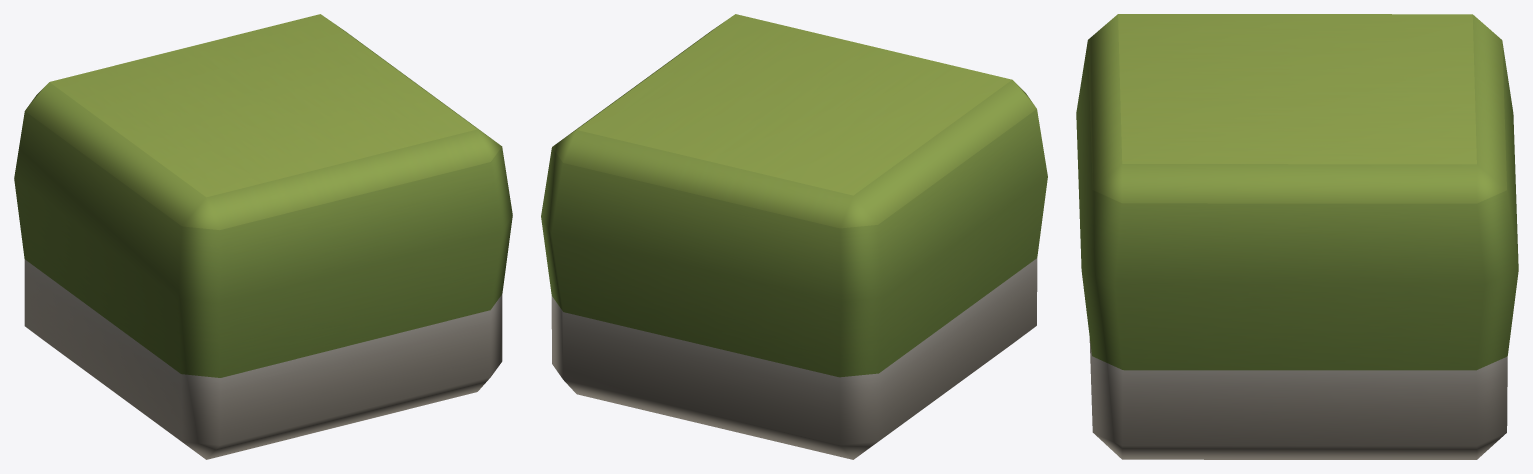
File: hedge_rooftop_1x1.fbx
3 views of the same model, side by side, from view 1: azimuth 30°, elevation 25°; view 2: azimuth 150°, elevation 25°; view 3: azimuth 270°, elevation 25° (orthographic). The views are drawn at different scales.
Visible parts, largest first — view 1: hedge_rooftop_1x1; view 2: hedge_rooftop_1x1; view 3: hedge_rooftop_1x1.
Boxes of the visible parts, box(x1,y1,x2,y2) form: hedge_rooftop_1x1: box(14, 14, 512, 459); hedge_rooftop_1x1: box(541, 14, 1047, 459); hedge_rooftop_1x1: box(1076, 14, 1518, 459).
Size of the model in its own units: 111 by 82.42 by 112.
